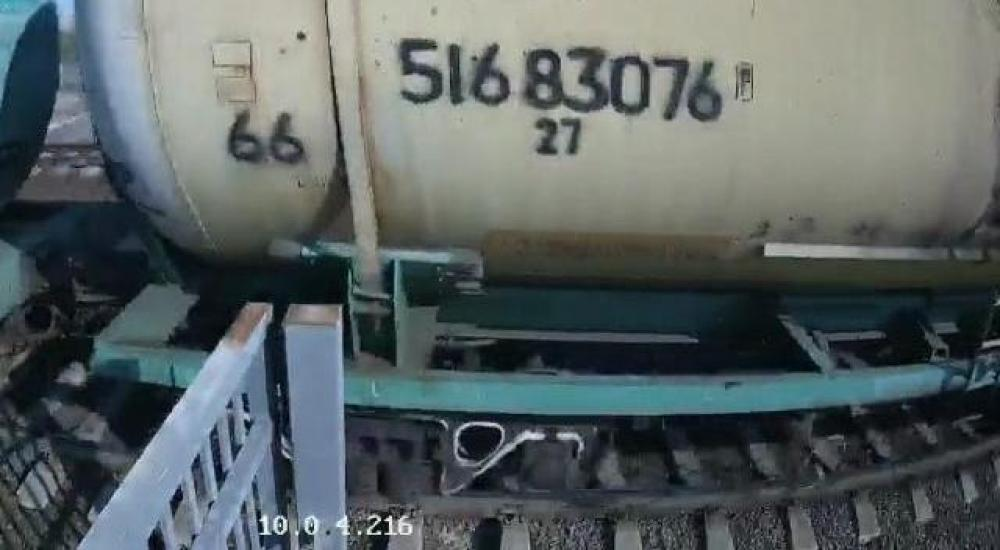Wagon-number: (392, 33, 727, 130)
